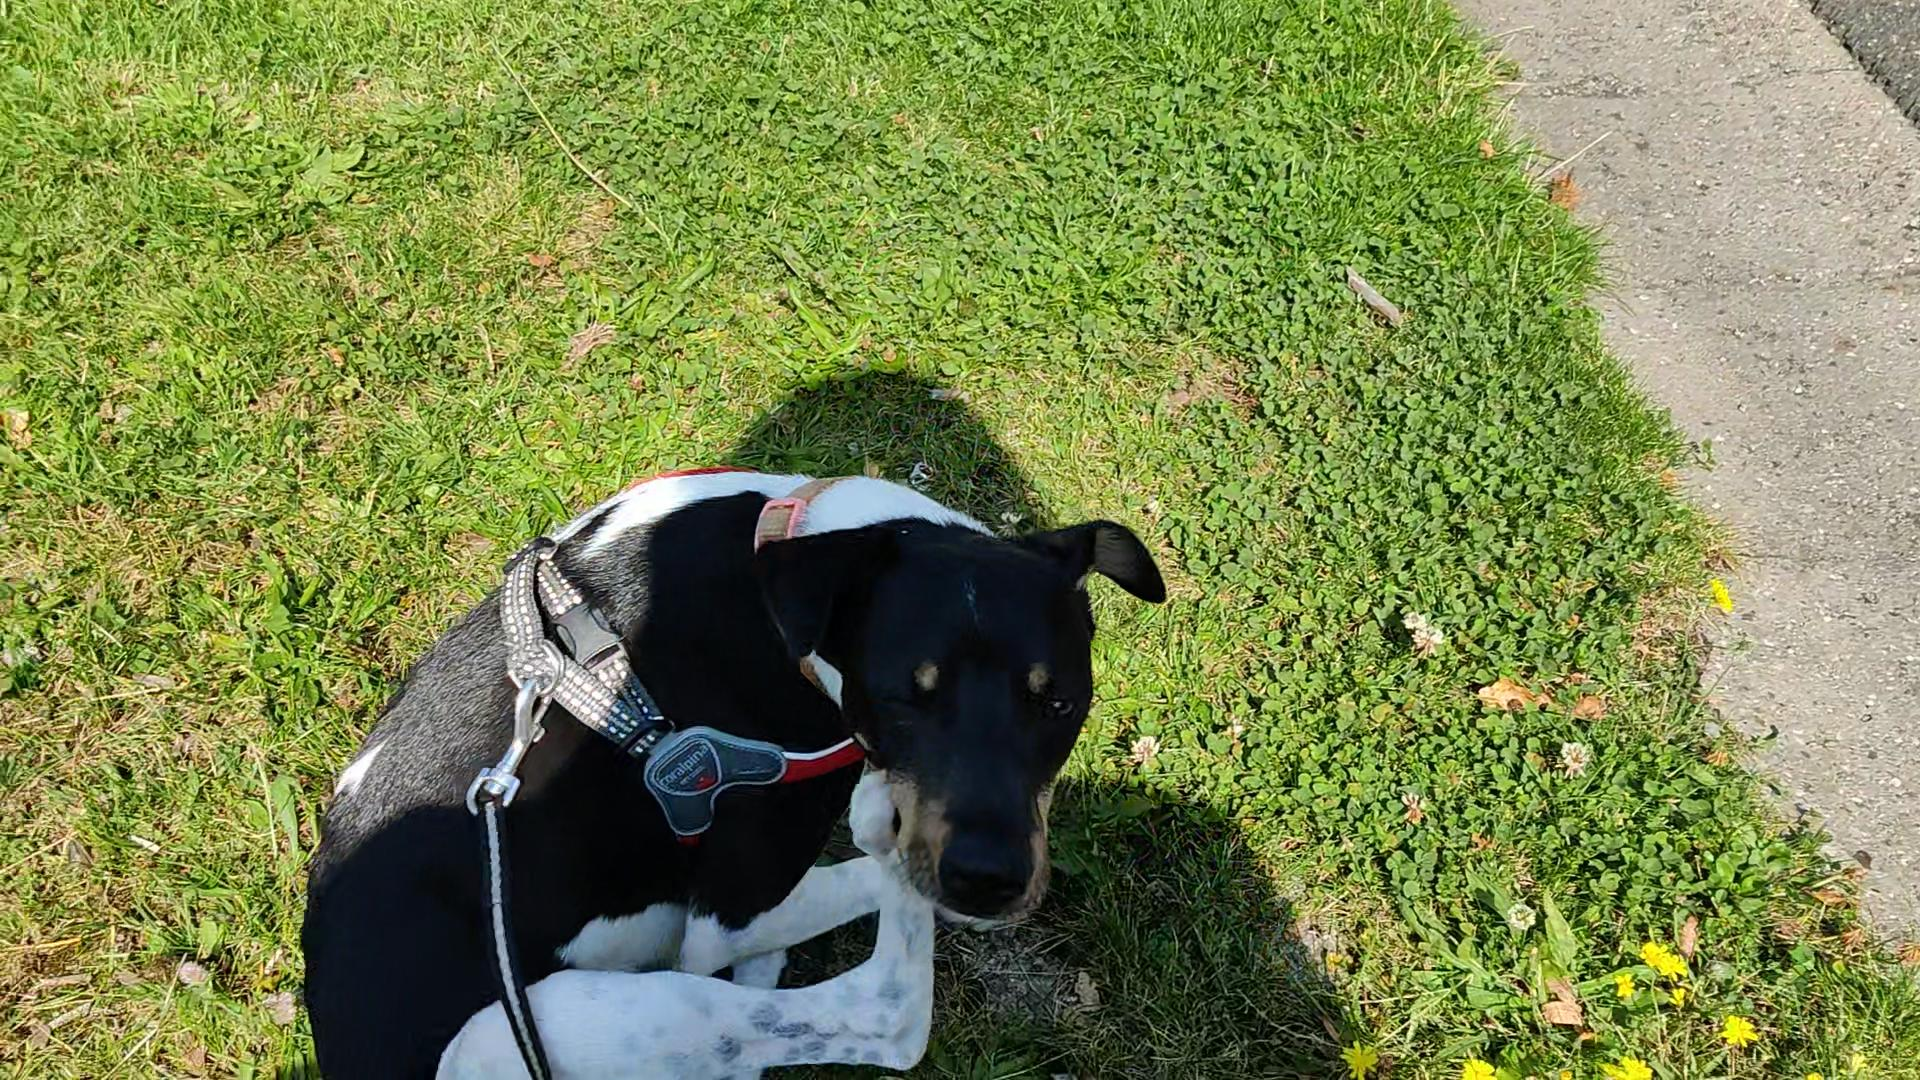Dog: (268, 444, 1178, 1079)
